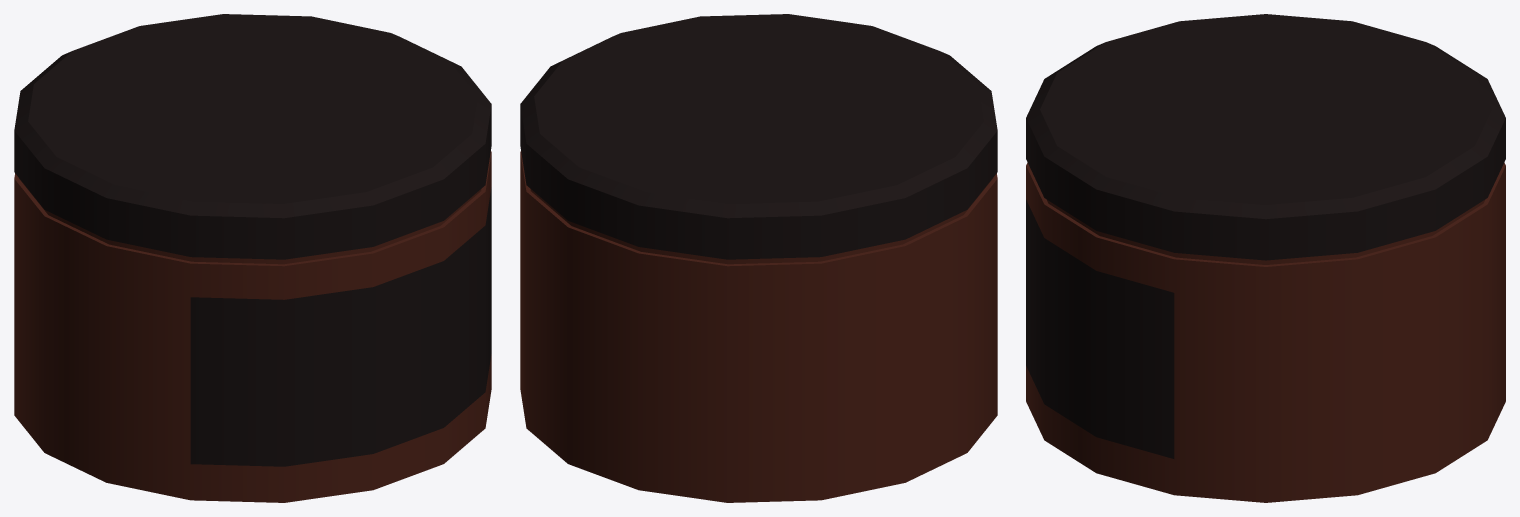
Rendered from opakowanie.fbx.
3 renders of one model, left to right at view 1: azimuth 30°, elevation 25°; view 2: azimuth 150°, elevation 25°; view 3: azimuth 270°, elevation 25°, orthographic.
Visible parts, largest first — view 1: opakowanie; view 2: opakowanie; view 3: opakowanie.
Part boxes in pixels (left/top/right/bottom): opakowanie: left=14, top=14, right=491, bottom=502; opakowanie: left=520, top=14, right=997, bottom=502; opakowanie: left=1026, top=14, right=1505, bottom=502.
Size of the model in its own units: 175 by 175 by 117.
